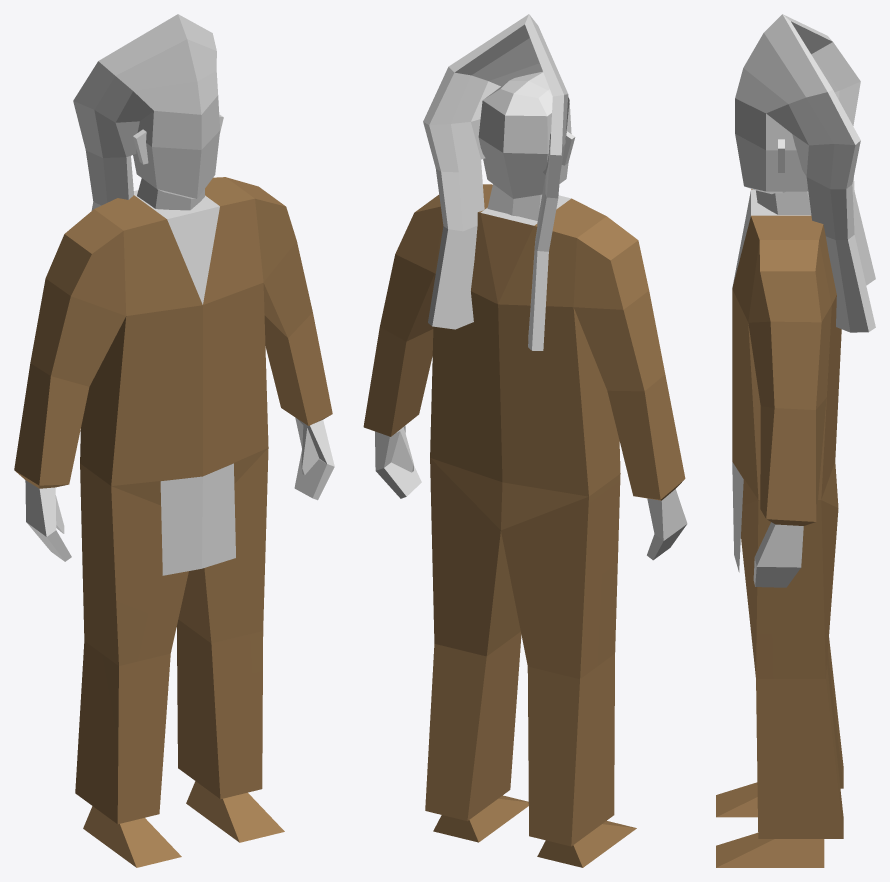
Rendered from man-native.fbx.
3 renders of one model, left to right at view 1: azimuth 30°, elevation 25°; view 2: azimuth 150°, elevation 25°; view 3: azimuth 270°, elevation 25°, orthographic.
Visible parts, largest first — view 1: man-native; view 2: man-native; view 3: man-native.
Part boxes in pixels (<box>): man-native: <box>14,14,334,867</box>; man-native: <box>363,14,687,867</box>; man-native: <box>716,14,875,867</box>.
Bounding box in the file's own units: 0.7396 × 1.95 × 0.3458.
